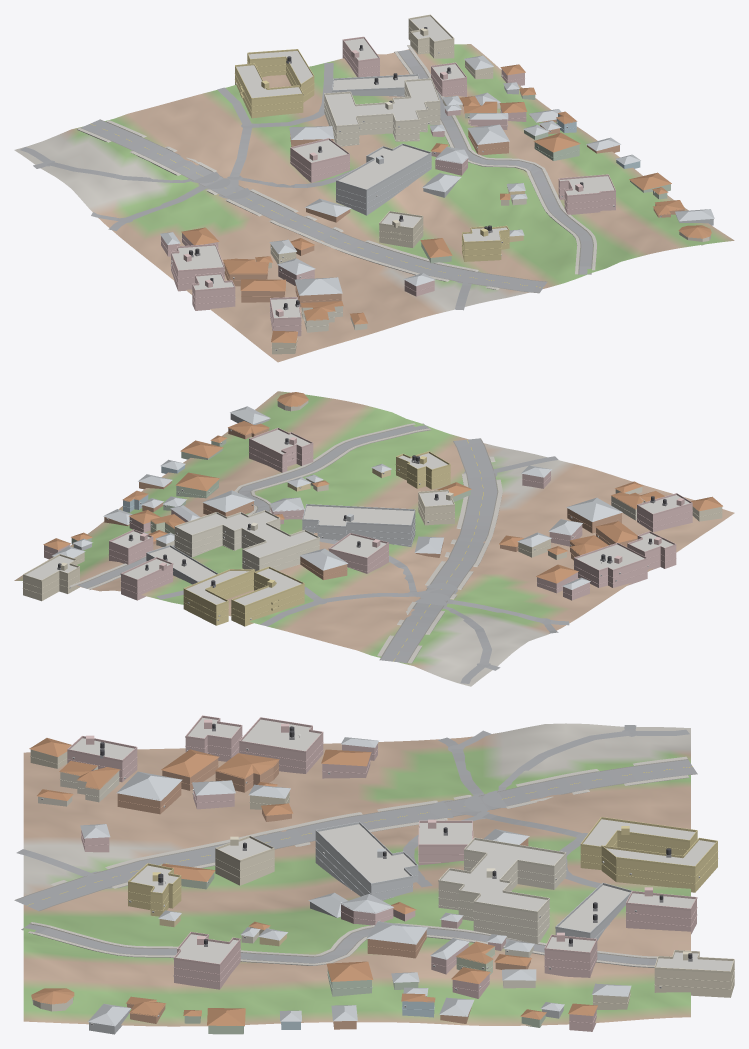
3 views of the same model, one above another, from view 1: azimuth 30°, elevation 25°; view 2: azimuth 150°, elevation 25°; view 3: azimuth 270°, elevation 25° (orthographic). The views are drawn at different scales.
Parts seen in each view (by area): view 1: Terrain-col, Buildings-col, Roads-col, Details, Sidewalks-col; view 2: Terrain-col, Buildings-col, Roads-col, Details, Sidewalks-col; view 3: Terrain-col, Buildings-col, Roads-col, Details, Sidewalks-col.
Part boxes in pixels (left/top/right/bottom): Terrain-col: left=14, top=44, right=734, bottom=362; Buildings-col: left=160, top=16, right=714, bottom=354; Roads-col: left=20, top=49, right=593, bottom=310; Details: left=160, top=14, right=713, bottom=350; Sidewalks-col: left=77, top=45, right=597, bottom=289; Terrain-col: left=14, top=391, right=734, bottom=686; Buildings-col: left=23, top=392, right=722, bottom=626; Roads-col: left=77, top=423, right=569, bottom=683; Details: left=22, top=427, right=722, bottom=620; Sidewalks-col: left=69, top=423, right=502, bottom=663; Terrain-col: left=23, top=723, right=690, bottom=1026; Buildings-col: left=29, top=718, right=734, bottom=1034; Roads-col: left=14, top=725, right=697, bottom=965; Details: left=30, top=715, right=734, bottom=1025; Sidewalks-col: left=28, top=756, right=689, bottom=967.
Size of the model in its own units: 270 by 28.98 by 277.
